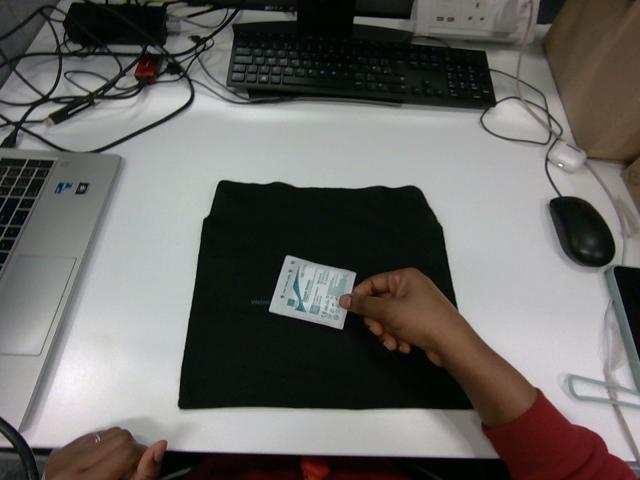gauze: (269, 255, 353, 327)
